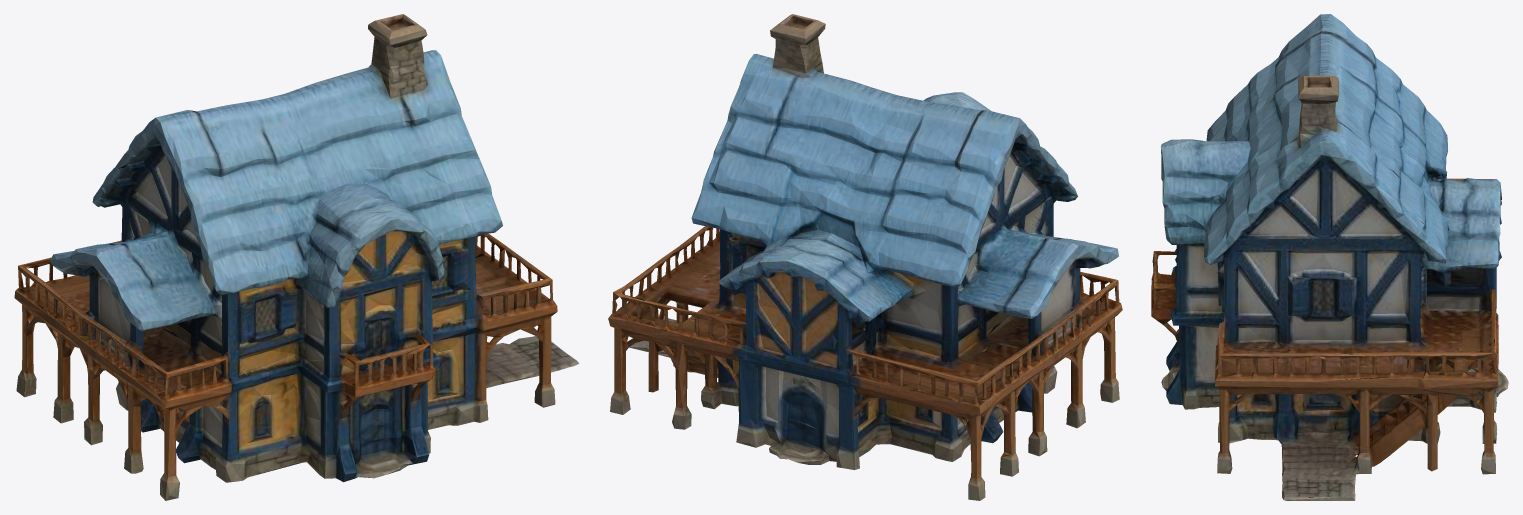
Rendered from tavern_blue_porch_lod0.glb.
3 renders of one model, left to right at view 1: azimuth 30°, elevation 25°; view 2: azimuth 150°, elevation 25°; view 3: azimuth 270°, elevation 25°, orthographic. The views are drawn at different scales.
Parts seen in each view (by area): view 1: tavern_blue_porch_lod0; view 2: tavern_blue_porch_lod0; view 3: tavern_blue_porch_lod0.
Boxes of the visible parts, x1=… form: tavern_blue_porch_lod0: x1=14, y1=14, x2=579, y2=500; tavern_blue_porch_lod0: x1=608, y1=14, x2=1122, y2=500; tavern_blue_porch_lod0: x1=1151, y1=14, x2=1508, y2=500.
Bounding box in the file's own units: 7.98 × 6.1 × 5.7.
1 material, 1 textured.
